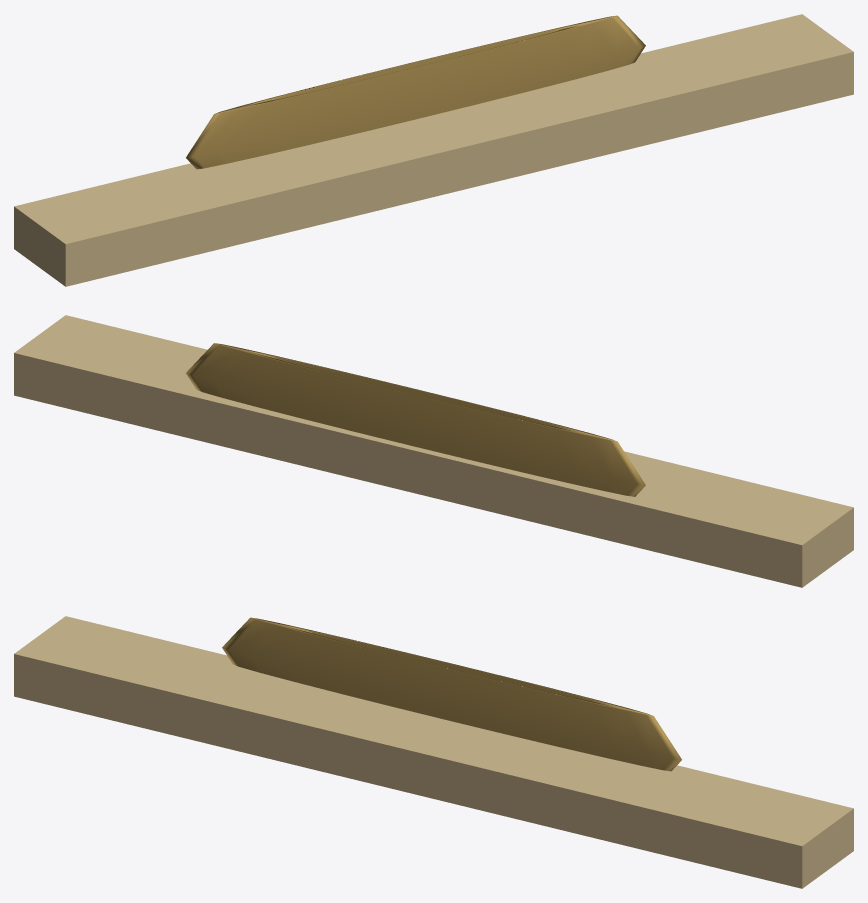
The picture shows the model from 3 angles, top to bottom: view 1: azimuth 30°, elevation 25°; view 2: azimuth 150°, elevation 25°; view 3: azimuth 330°, elevation 25°; orthographic projection.
Parts seen in each view (by area): view 1: a-bookmark; view 2: a-bookmark; view 3: a-bookmark.
Boxes of the visible parts, x1=… form: a-bookmark: x1=14, y1=14, x2=853, y2=286; a-bookmark: x1=14, y1=315, x2=853, y2=587; a-bookmark: x1=14, y1=616, x2=853, y2=888.
Size of the model in its own units: 0.22 by 0.025 by 0.025.
